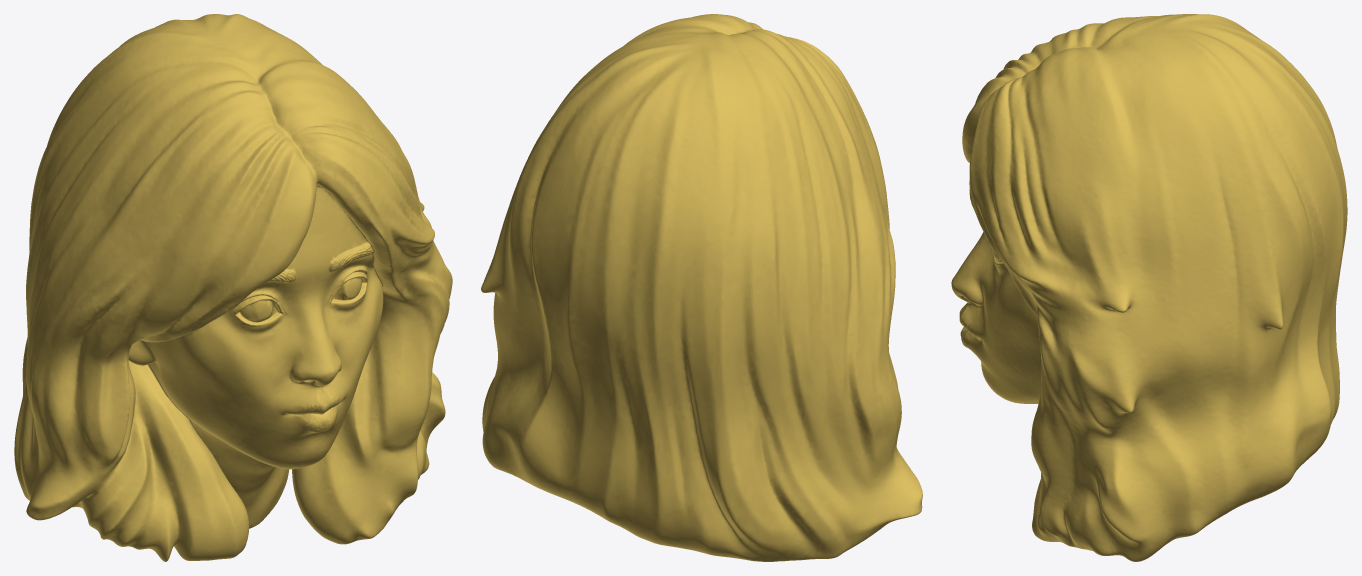
File: Yuri_Head_s.glb
3 renders of one model, left to right at view 1: azimuth 30°, elevation 25°; view 2: azimuth 150°, elevation 25°; view 3: azimuth 270°, elevation 25°, orthographic. The views are drawn at different scales.
Bounding box in the file's own units: 1.54 × 1.75 × 1.33.
